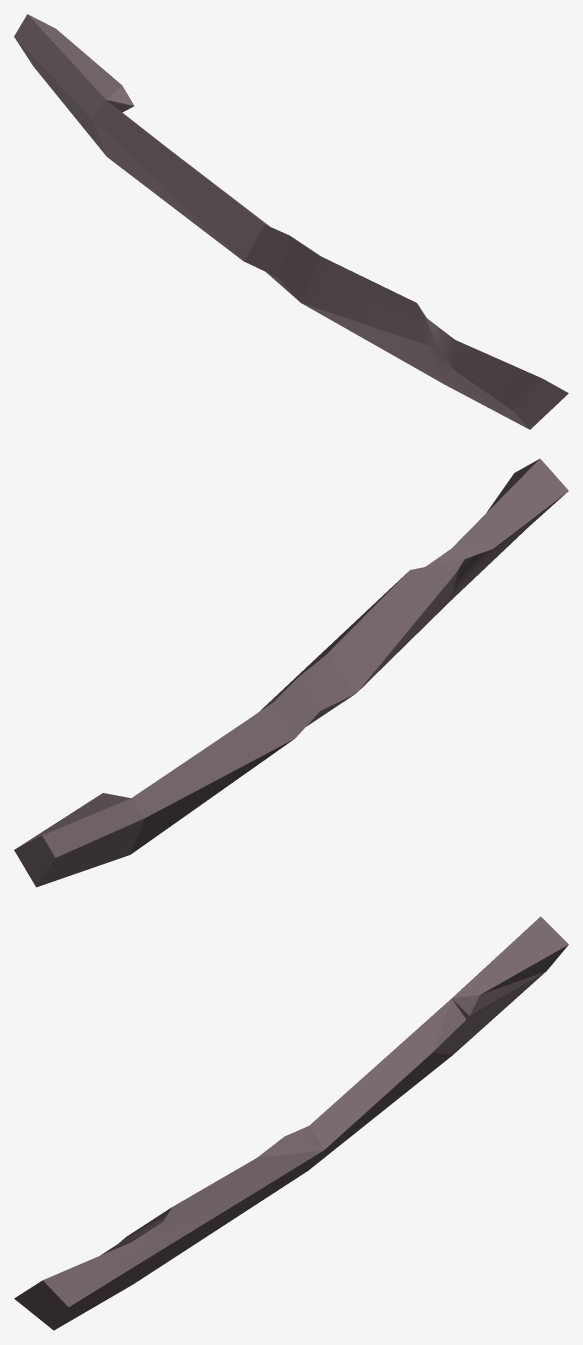
The model's file is SM_L_R_Home_Pillar_Roof.fbx.
3 renders of one model, top to bottom at view 1: azimuth 30°, elevation 25°; view 2: azimuth 150°, elevation 25°; view 3: azimuth 330°, elevation 25°, orthographic.
Visible parts, largest first — view 1: SM_L_R_Home_pillar_roof; view 2: SM_L_R_Home_pillar_roof; view 3: SM_L_R_Home_pillar_roof.
Boxes of the visible parts, x1=… form: SM_L_R_Home_pillar_roof: x1=14, y1=14, x2=568, y2=429; SM_L_R_Home_pillar_roof: x1=14, y1=458, x2=568, y2=887; SM_L_R_Home_pillar_roof: x1=14, y1=916, x2=568, y2=1330.
Size of the model in its own units: 0.3326 by 0.5227 by 5.31.
